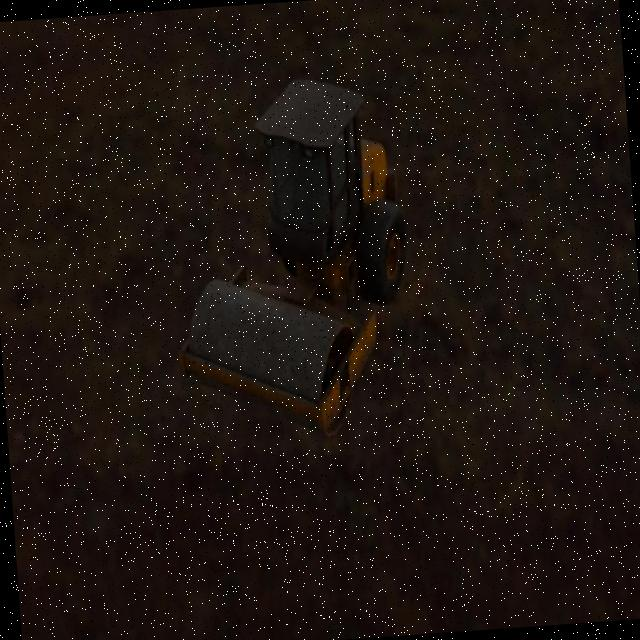Roller: (158, 70, 420, 446)
